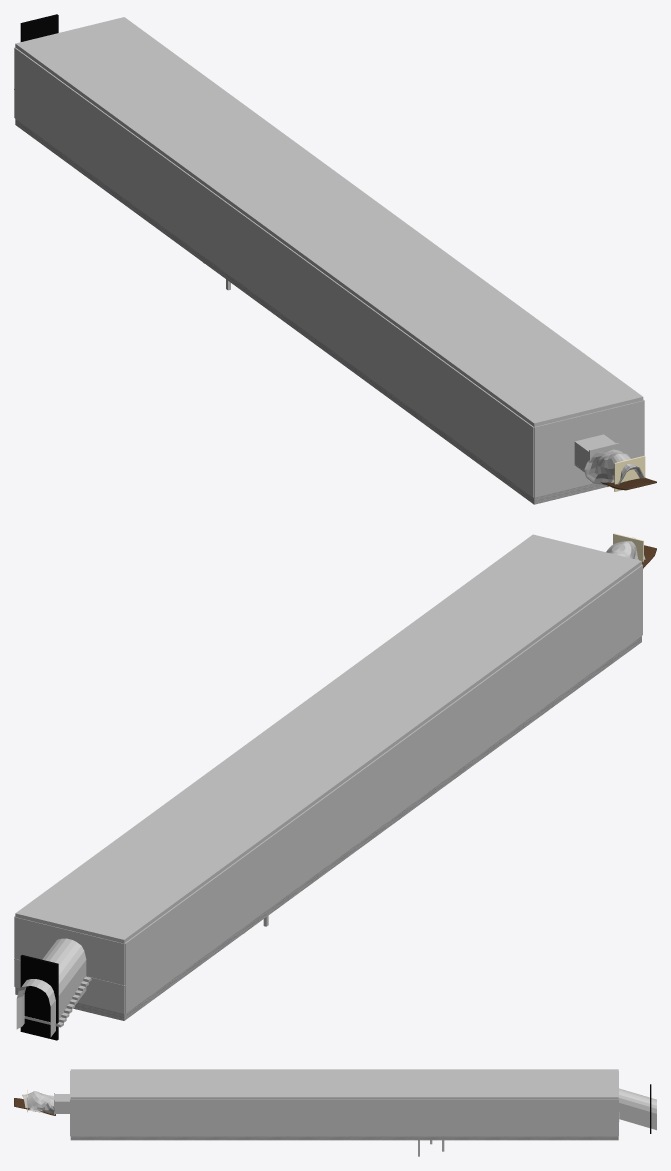
The model's file is Level_1.fbx.
3 renders of one model, top to bottom at view 1: azimuth 30°, elevation 25°; view 2: azimuth 150°, elevation 25°; view 3: azimuth 270°, elevation 25°, orthographic. The views are drawn at different scales.
Visible parts, largest first — view 1: Cube.013, Cube.014, Cube.008, Cube.015, Sphere, Cube.033; view 2: Cube.013, Cube.014, Cube.011, Cube.015, Cube.032, Cube.033; view 3: Cube.014, Cube.013, Cube.015, Cube.032, Sphere, Cube.003.
Part boxes in pixels (left/top/right/bottom): Cube.013: left=15, top=17, right=643, bottom=426; Cube.014: left=14, top=47, right=644, bottom=497; Cube.008: left=534, top=400, right=643, bottom=497; Cube.015: left=15, top=119, right=606, bottom=504; Sphere: left=584, top=449, right=644, bottom=488; Cube.033: left=20, top=14, right=58, bottom=41; Cube.013: left=15, top=534, right=641, bottom=943; Cube.014: left=14, top=564, right=642, bottom=1013; Cube.011: left=15, top=917, right=124, bottom=1013; Cube.015: left=15, top=636, right=641, bottom=1020; Cube.032: left=16, top=938, right=86, bottom=1037; Cube.033: left=20, top=955, right=58, bottom=1040; Cube.014: left=70, top=1099, right=618, bottom=1136; Cube.013: left=70, top=1069, right=618, bottom=1099; Cube.015: left=70, top=1136, right=618, bottom=1140; Cube.032: left=619, top=1088, right=656, bottom=1130; Sphere: left=22, top=1091, right=54, bottom=1114; Cube.003: left=55, top=1102, right=69, bottom=1113.
Size of the model in its own units: 3152 by 3493 by 29836.
